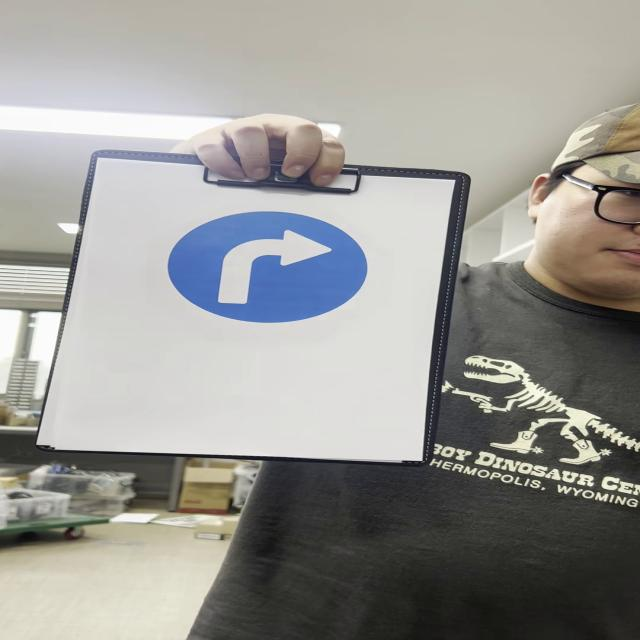right: (173, 209, 366, 324)
